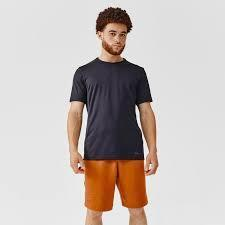Tshirt: (69, 56, 153, 161)
short: (82, 158, 148, 212)
